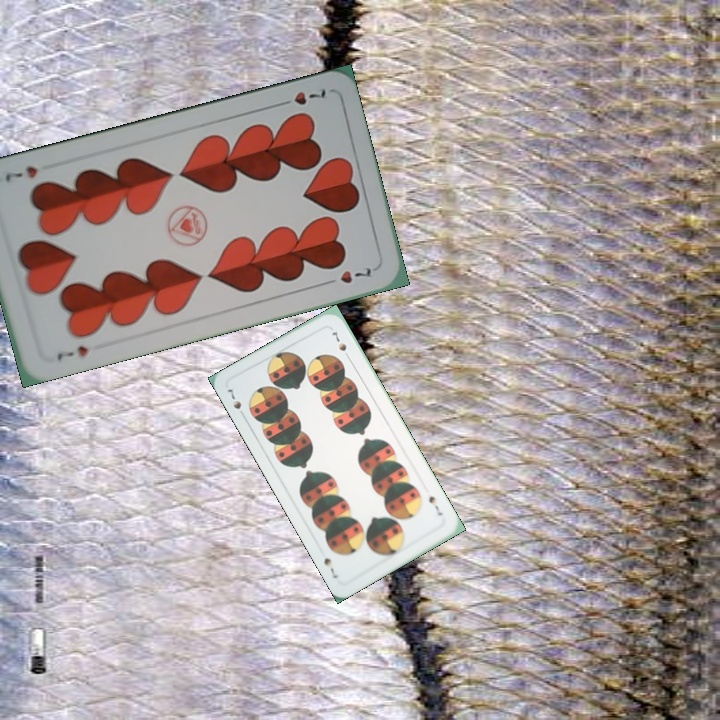H7: (273, 84, 329, 109), (53, 341, 91, 363)
S7: (223, 385, 244, 412), (424, 492, 445, 518)
